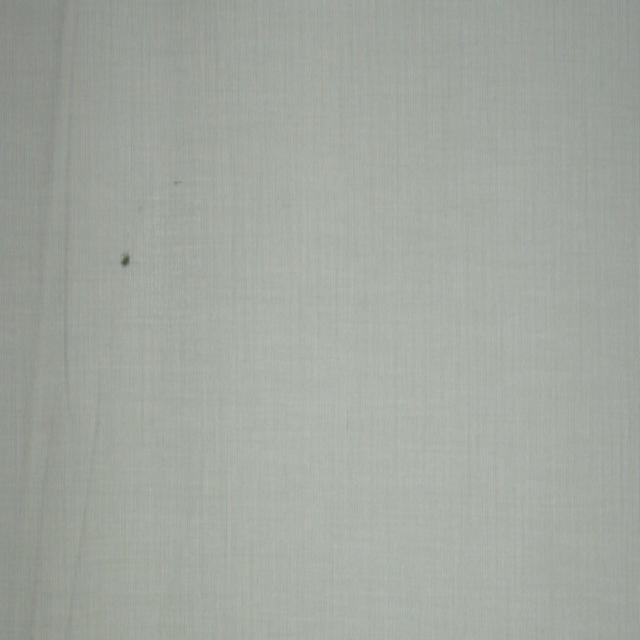dirty: (120, 255, 133, 268)
